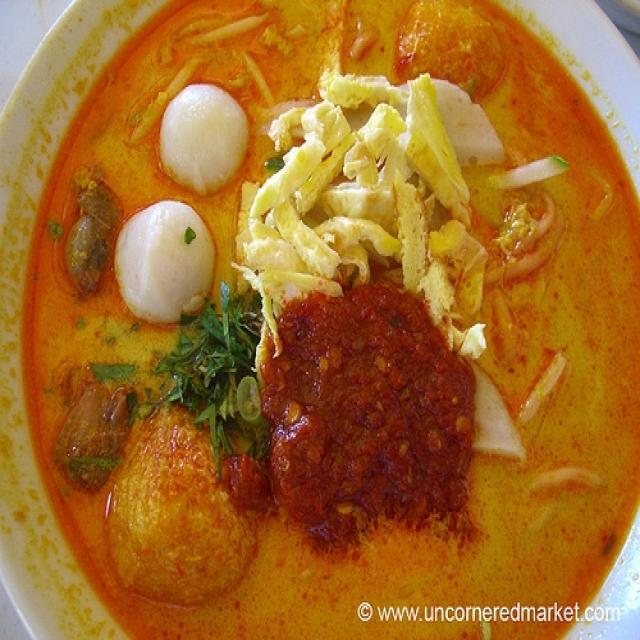面条主食: (22, 12, 627, 614)
